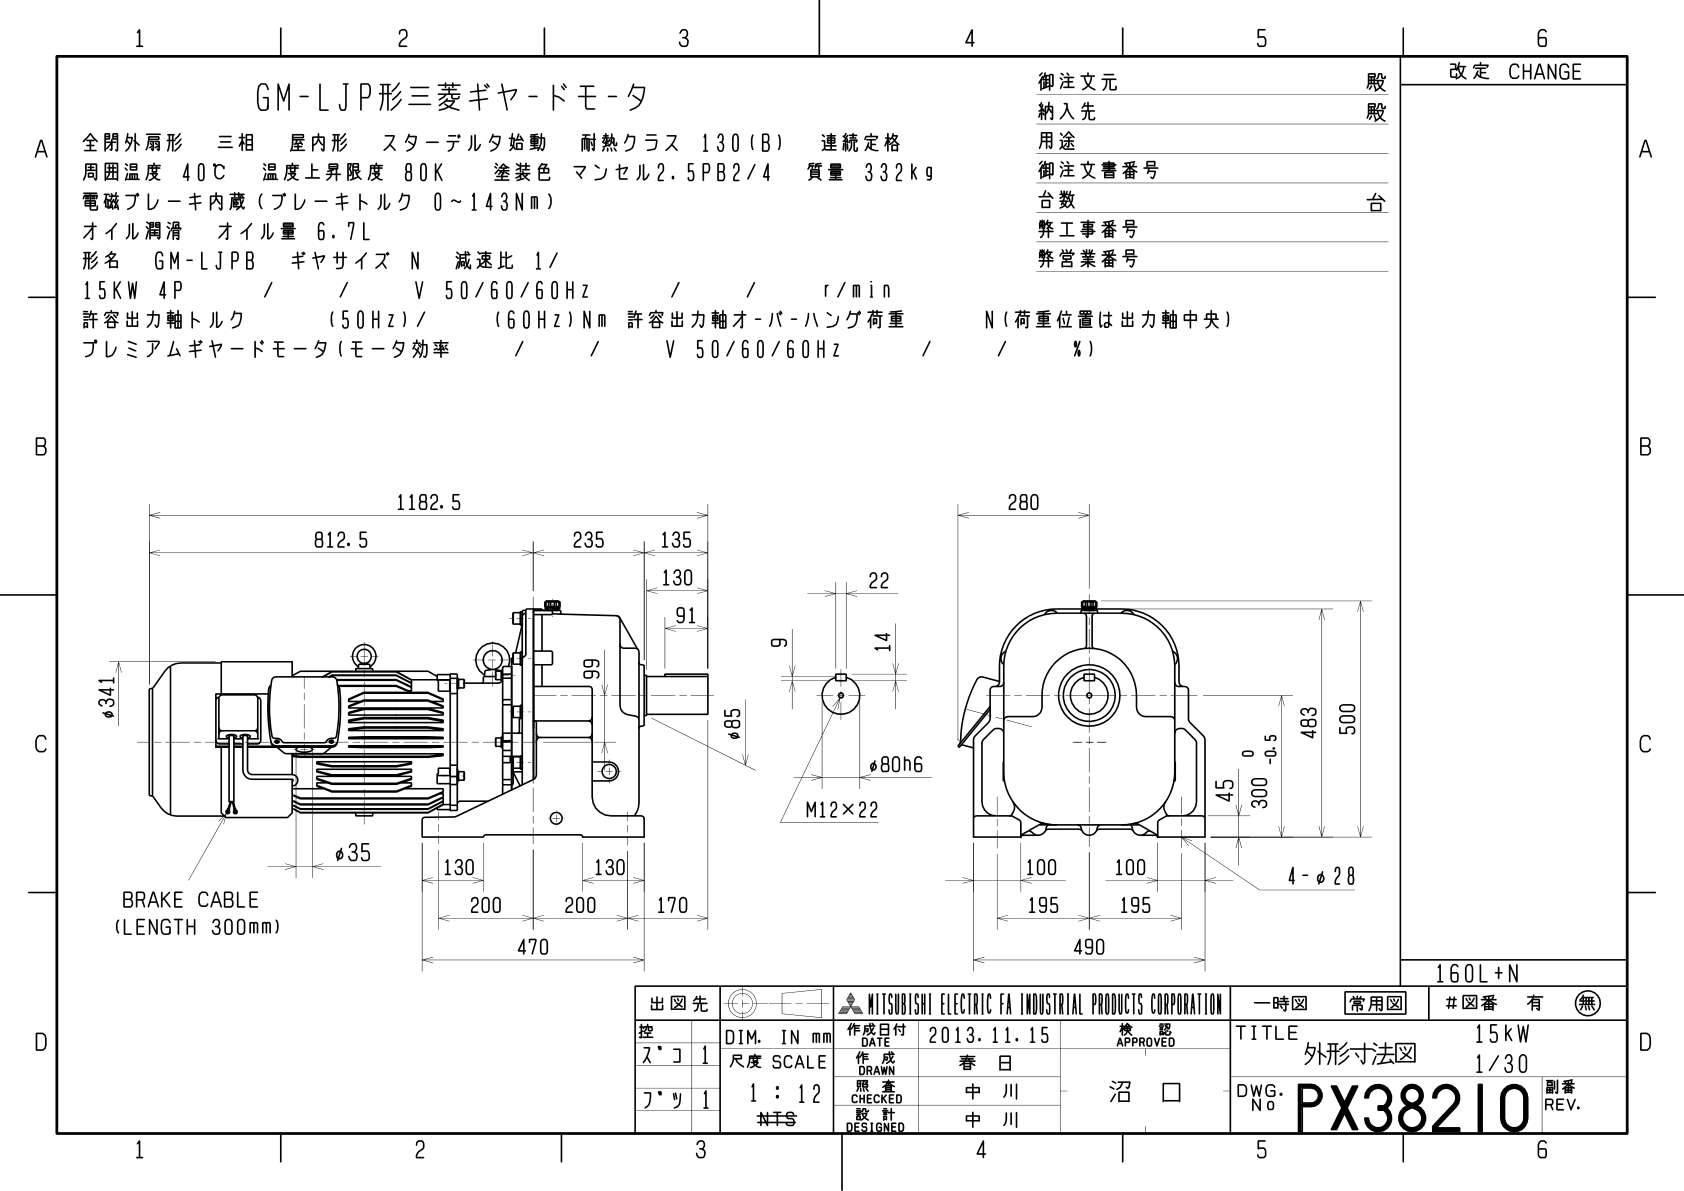GM_LJP_屋内_三相_脚: (77, 452, 1397, 986)
